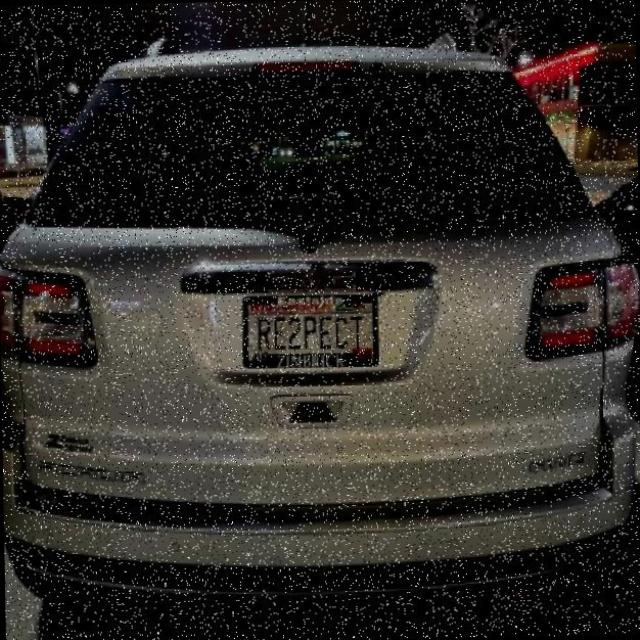LicensePlate: (242, 294, 380, 368)
